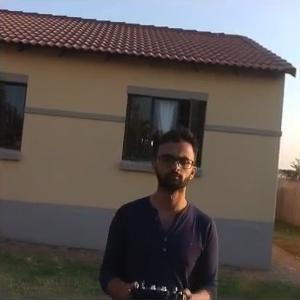follow: (93, 124, 221, 298)
